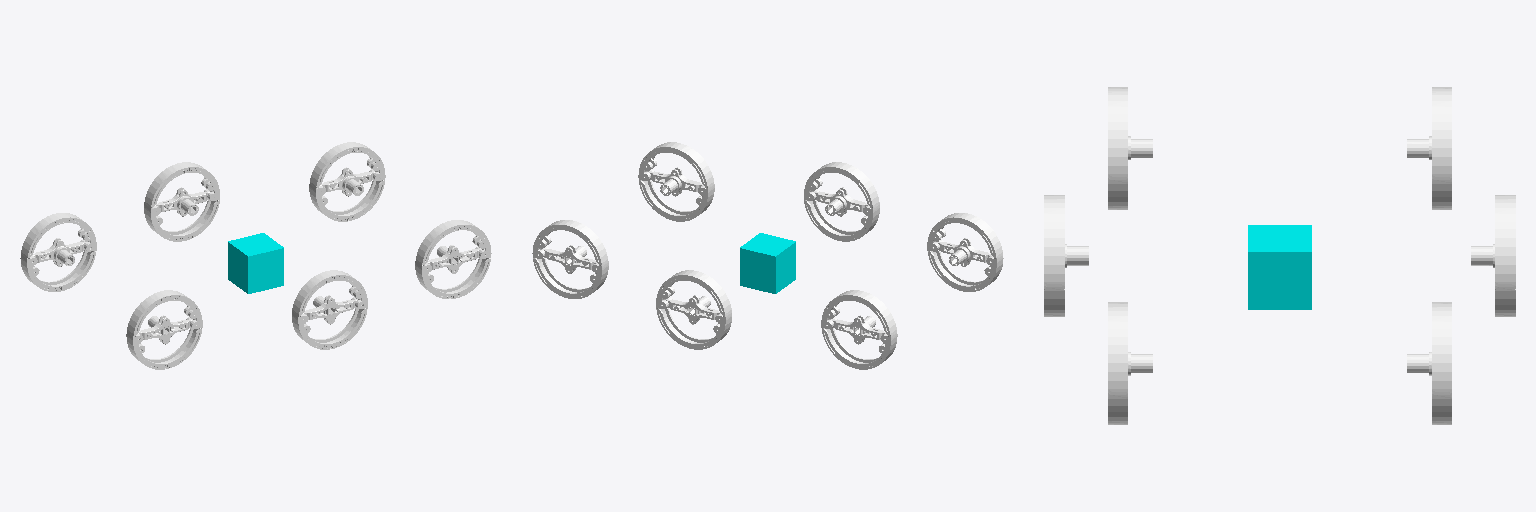
--- Render facts (derived) ---
Views: 3 orthographic renders of the robot side by side, from view 1: azimuth 30°, elevation 25°; view 2: azimuth 150°, elevation 25°; view 3: azimuth 270°, elevation 25°.
Model WheelLeg with 19 links and 18 joints (18 continuous), rooted at base_link, posed all joints at 0.
Visible links, largest first — view 1: base_link, RMRB, RBRB, LMRB, LBRB, LFRB, RFRB, LFRA, LMRA, RMRA, RBRA, RFRA (+7 smaller); view 2: base_link, LBRB, LMRB, RFRB, RMRB, RBRB, LFRB, RMRA, RFRA, LMRA, LBRA, LFRA (+7 smaller); view 3: base_link, LMRB, RMRB, LFRB, LBRB, RFRB, RBRB, LMRA, RMRA, LFRA, LBRA, RFRA (+1 smaller).
Link boxes in pixels (box(x1,y1,x2,y2)): base_link: box(228, 233, 283, 293); RMRB: box(292, 270, 367, 317); RBRB: box(127, 290, 202, 337); LMRB: box(144, 162, 219, 209); LBRB: box(21, 213, 96, 260); LFRB: box(310, 142, 385, 189); RFRB: box(416, 220, 491, 267); LFRA: box(309, 180, 384, 221); LMRA: box(144, 200, 219, 241); RMRA: box(292, 308, 367, 349); RBRA: box(126, 328, 201, 369); RFRA: box(415, 257, 490, 298); base_link: box(740, 233, 795, 293); LBRB: box(821, 290, 896, 337); LMRB: box(656, 270, 731, 317); RFRB: box(638, 142, 713, 189); RMRB: box(804, 162, 879, 209); RBRB: box(927, 213, 1002, 260); LFRB: box(532, 220, 607, 267); RMRA: box(804, 200, 879, 241); RFRA: box(639, 180, 714, 221); LMRA: box(656, 308, 731, 349); LBRA: box(822, 328, 897, 369); LFRA: box(533, 257, 608, 298); base_link: box(1248, 225, 1311, 309); LMRB: box(1495, 195, 1515, 288); RMRB: box(1044, 195, 1064, 288); LFRB: box(1432, 302, 1451, 396); LBRB: box(1432, 87, 1451, 181); RFRB: box(1108, 302, 1127, 396); RBRB: box(1108, 87, 1127, 181); LMRA: box(1495, 284, 1515, 316); RMRA: box(1044, 284, 1064, 316); LFRA: box(1432, 392, 1451, 424); LBRA: box(1432, 177, 1451, 209); RFRA: box(1108, 392, 1127, 424).
Bounding box of the posed robot: 0.993 × 0.7405 × 0.193 m (x, y, z).
18 mesh visuals loaded from 6 distinct referenced files (6 binary STL).

The robot description file, URDF, robot "WheelLeg":
<?xml version="1.0" encoding="utf-8"?>
<!-- =================================================================================== -->
<!-- |    This document was autogenerated by xacro from WheelLeg.xacro                 | -->
<!-- |    EDITING THIS FILE BY HAND IS NOT RECOMMENDED                                 | -->
<!-- =================================================================================== -->
<robot name="WheelLeg">
  <link name="base_link">
    <inertial>
      <origin rpy="0 0 0" xyz="0.05 0.05 0.05"/>
      <mass value="1"/>
      <inertia ixx="0.00167" ixy="0" ixz="0" iyy="0.00167" iyz="0" izz="0.00167"/>
    </inertial>
    <visual>
      <origin rpy="0 0 0" xyz="0 0 0"/>
      <geometry>
        <box size="0.1 0.1 0.1"/>
      </geometry>
      <material name="Cyan">
        <color rgba="0 1.0 1.0 1.0"/>
      </material>
    </visual>
    <collision>
      <origin rpy="0 0 0" xyz="0 0 0"/>
      <geometry>
        <box size="0.1 0.1 0.1"/>
      </geometry>
    </collision>
  </link>
  <link name="LF">
    <inertial>
      <origin rpy="0 0 0" xyz="4.8179E-09 1.5313E-06 0.045042"/>
      <mass value="0.075119"/>
      <inertia ixx="0.00010565" ixy="-1.0649E-07" ixz="-2.3479E-12" iyy="2.7546E-05" iyz="-8.9308E-10" izz="9.6655E-05"/>
    </inertial>
    <visual>
      <origin rpy="0 0 0" xyz="0 0 0"/>
      <geometry>
        <mesh filename="package://wheelleg_description/meshes/Left.STL"/>
      </geometry>
      <material name="">
        <color rgba="1 1 1 1"/>
      </material>
    </visual>
    <collision>
      <origin rpy="0 0 0" xyz="0 0 0"/>
      <geometry>
        <mesh filename="package://wheelleg_description/meshes/Left.STL"/>
      </geometry>
    </collision>
  </link>
  <joint name="LF_Joint" type="continuous">
    <origin rpy="1.5708 -1.5708 3.1416" xyz="0.4 0.2 0.02"/>
    <parent link="base_link"/>
    <child link="LF"/>
    <axis xyz="0 0 1"/>
    <limit effort="2.8" velocity="30"/>
  </joint>
  <link name="LFRA">
    <inertial>
      <origin rpy="0 0 0" xyz="0.060620953877514 -0.0509052185223456 -0.0160797180106055"/>
      <mass value="0.102065831041357"/>
      <inertia ixx="0.000107618762660542" ixy="6.4058045299092E-05" ixz="1.40721471251035E-07" iyy="0.000426511611787524" iyz="-2.25569567809916E-07" izz="0.000513500369211842"/>
    </inertial>
    <visual>
      <origin rpy="0 0 0" xyz="0 0 0"/>
      <geometry>
        <mesh filename="package://wheelleg_description/meshes/LeftRimA.STL"/>
      </geometry>
      <material name="">
        <color rgba="1 1 1 1"/>
      </material>
    </visual>
    <collision>
      <origin rpy="0 0 0" xyz="0 0 0"/>
      <geometry>
        <mesh filename="package://wheelleg_description/meshes/LeftRimA.STL"/>
      </geometry>
    </collision>
  </link>
  <joint name="LFRA_Joint" type="continuous">
    <origin rpy="3.1416 0 1.5708" xyz="0 -0.08 0.038242"/>
    <parent link="LF"/>
    <child link="LFRA"/>
    <axis xyz="0 0 1"/>
    <dynamics damping="0.2" friction="0.0"/>
    <limit effort="2.8" velocity="30"/>
  </joint>
  <link name="LFRB">
    <inertial>
      <origin rpy="0 0 0" xyz="0.060620953877514 -0.0509052185223458 -0.0160797180106054"/>
      <mass value="0.102065831041357"/>
      <inertia ixx="0.000107618762660542" ixy="6.4058045299092E-05" ixz="1.40721471251074E-07" iyy="0.000426511611787524" iyz="-2.2556956780994E-07" izz="0.000513500369211842"/>
    </inertial>
    <visual>
      <origin rpy="0 0 0" xyz="0 0 0"/>
      <geometry>
        <mesh filename="package://wheelleg_description/meshes/LeftRimB.STL"/>
      </geometry>
      <material name="">
        <color rgba="1 1 1 1"/>
      </material>
    </visual>
    <collision>
      <origin rpy="0 0 0" xyz="0 0 0"/>
      <geometry>
        <mesh filename="package://wheelleg_description/meshes/LeftRimB.STL"/>
      </geometry>
    </collision>
  </link>
  <joint name="LFRB_Joint" type="continuous">
    <origin rpy="3.1416 0 -1.5708" xyz="0 0.08 0.038242"/>
    <parent link="LF"/>
    <child link="LFRB"/>
    <axis xyz="0 0 1"/>
    <dynamics damping="0.2" friction="0.0"/>
    <limit effort="2.8" velocity="30"/>
  </joint>
  <link name="LM">
    <inertial>
      <origin rpy="0 0 0" xyz="4.8179E-09 1.5313E-06 0.045042"/>
      <mass value="0.075119"/>
      <inertia ixx="0.00010565" ixy="-1.0649E-07" ixz="-2.3479E-12" iyy="2.7546E-05" iyz="-8.9308E-10" izz="9.6655E-05"/>
    </inertial>
    <visual>
      <origin rpy="0 0 0" xyz="0 0 0"/>
      <geometry>
        <mesh filename="package://wheelleg_description/meshes/Left.STL"/>
      </geometry>
      <material name="">
        <color rgba="1 1 1 1"/>
      </material>
    </visual>
    <collision>
      <origin rpy="0 0 0" xyz="0 0 0"/>
      <geometry>
        <mesh filename="package://wheelleg_description/meshes/Left.STL"/>
      </geometry>
    </collision>
  </link>
  <joint name="LM_Joint" type="continuous">
    <origin rpy="1.5708 -1.5708 3.1416" xyz="0 0.3 0.02"/>
    <parent link="base_link"/>
    <child link="LM"/>
    <axis xyz="0 0 1"/>
    <limit effort="2.8" velocity="30"/>
  </joint>
  <link name="LMRA">
    <inertial>
      <origin rpy="0 0 0" xyz="0.060620953877514 -0.0509052185223456 -0.0160797180106055"/>
      <mass value="0.102065831041357"/>
      <inertia ixx="0.000107618762660542" ixy="6.4058045299092E-05" ixz="1.40721471251035E-07" iyy="0.000426511611787524" iyz="-2.25569567809916E-07" izz="0.000513500369211842"/>
    </inertial>
    <visual>
      <origin rpy="0 0 0" xyz="0 0 0"/>
      <geometry>
        <mesh filename="package://wheelleg_description/meshes/LeftRimA.STL"/>
      </geometry>
      <material name="">
        <color rgba="1 1 1 1"/>
      </material>
    </visual>
    <collision>
      <origin rpy="0 0 0" xyz="0 0 0"/>
      <geometry>
        <mesh filename="package://wheelleg_description/meshes/LeftRimA.STL"/>
      </geometry>
    </collision>
  </link>
  <joint name="LMRA_Joint" type="continuous">
    <origin rpy="3.1416 0 1.5708" xyz="0 -0.08 0.038242"/>
    <parent link="LM"/>
    <child link="LMRA"/>
    <axis xyz="0 0 1"/>
    <dynamics damping="0.2" friction="0.0"/>
    <limit effort="2.8" velocity="30"/>
  </joint>
  <link name="LMRB">
    <inertial>
      <origin rpy="0 0 0" xyz="0.060620953877514 -0.0509052185223458 -0.0160797180106054"/>
      <mass value="0.102065831041357"/>
      <inertia ixx="0.000107618762660542" ixy="6.4058045299092E-05" ixz="1.40721471251074E-07" iyy="0.000426511611787524" iyz="-2.2556956780994E-07" izz="0.000513500369211842"/>
    </inertial>
    <visual>
      <origin rpy="0 0 0" xyz="0 0 0"/>
      <geometry>
        <mesh filename="package://wheelleg_description/meshes/LeftRimB.STL"/>
      </geometry>
      <material name="">
        <color rgba="1 1 1 1"/>
      </material>
    </visual>
    <collision>
      <origin rpy="0 0 0" xyz="0 0 0"/>
      <geometry>
        <mesh filename="package://wheelleg_description/meshes/LeftRimB.STL"/>
      </geometry>
    </collision>
  </link>
  <joint name="LMRB_Joint" type="continuous">
    <origin rpy="3.1416 0 -1.5708" xyz="0 0.08 0.038242"/>
    <parent link="LM"/>
    <child link="LMRB"/>
    <axis xyz="0 0 1"/>
    <dynamics damping="0.2" friction="0.0"/>
    <limit effort="2.8" velocity="30"/>
  </joint>
  <link name="LB">
    <inertial>
      <origin rpy="0 0 0" xyz="4.8179E-09 1.5313E-06 0.045042"/>
      <mass value="0.075119"/>
      <inertia ixx="0.00010565" ixy="-1.0649E-07" ixz="-2.3479E-12" iyy="2.7546E-05" iyz="-8.9308E-10" izz="9.6655E-05"/>
    </inertial>
    <visual>
      <origin rpy="0 0 0" xyz="0 0 0"/>
      <geometry>
        <mesh filename="package://wheelleg_description/meshes/Left.STL"/>
      </geometry>
      <material name="">
        <color rgba="1 1 1 1"/>
      </material>
    </visual>
    <collision>
      <origin rpy="0 0 0" xyz="0 0 0"/>
      <geometry>
        <mesh filename="package://wheelleg_description/meshes/Left.STL"/>
      </geometry>
    </collision>
  </link>
  <joint name="LB_Joint" type="continuous">
    <origin rpy="1.5708 -1.5708 3.1416" xyz="-0.4 0.2 0.02"/>
    <parent link="base_link"/>
    <child link="LB"/>
    <axis xyz="0 0 1"/>
    <limit effort="2.8" velocity="30"/>
  </joint>
  <link name="LBRA">
    <inertial>
      <origin rpy="0 0 0" xyz="0.060620953877514 -0.0509052185223456 -0.0160797180106055"/>
      <mass value="0.102065831041357"/>
      <inertia ixx="0.000107618762660542" ixy="6.4058045299092E-05" ixz="1.40721471251035E-07" iyy="0.000426511611787524" iyz="-2.25569567809916E-07" izz="0.000513500369211842"/>
    </inertial>
    <visual>
      <origin rpy="0 0 0" xyz="0 0 0"/>
      <geometry>
        <mesh filename="package://wheelleg_description/meshes/LeftRimA.STL"/>
      </geometry>
      <material name="">
        <color rgba="1 1 1 1"/>
      </material>
    </visual>
    <collision>
      <origin rpy="0 0 0" xyz="0 0 0"/>
      <geometry>
        <mesh filename="package://wheelleg_description/meshes/LeftRimA.STL"/>
      </geometry>
    </collision>
  </link>
  <joint name="LBRA_Joint" type="continuous">
    <origin rpy="3.1416 0 1.5708" xyz="0 -0.08 0.038242"/>
    <parent link="LB"/>
    <child link="LBRA"/>
    <axis xyz="0 0 1"/>
    <dynamics damping="0.2" friction="0.0"/>
    <limit effort="2.8" velocity="30"/>
  </joint>
  <link name="LBRB">
    <inertial>
      <origin rpy="0 0 0" xyz="0.060620953877514 -0.0509052185223458 -0.0160797180106054"/>
      <mass value="0.102065831041357"/>
      <inertia ixx="0.000107618762660542" ixy="6.4058045299092E-05" ixz="1.40721471251074E-07" iyy="0.000426511611787524" iyz="-2.2556956780994E-07" izz="0.000513500369211842"/>
    </inertial>
    <visual>
      <origin rpy="0 0 0" xyz="0 0 0"/>
      <geometry>
        <mesh filename="package://wheelleg_description/meshes/LeftRimB.STL"/>
      </geometry>
      <material name="">
        <color rgba="1 1 1 1"/>
      </material>
    </visual>
    <collision>
      <origin rpy="0 0 0" xyz="0 0 0"/>
      <geometry>
        <mesh filename="package://wheelleg_description/meshes/LeftRimB.STL"/>
      </geometry>
    </collision>
  </link>
  <joint name="LBRB_Joint" type="continuous">
    <origin rpy="3.1416 0 -1.5708" xyz="0 0.08 0.038242"/>
    <parent link="LB"/>
    <child link="LBRB"/>
    <axis xyz="0 0 1"/>
    <dynamics damping="0.2" friction="0.0"/>
    <limit effort="2.8" velocity="30"/>
  </joint>
  <link name="RF">
    <inertial>
      <origin rpy="0 0 0" xyz="4.8179E-09 1.5313E-06 0.045042"/>
      <mass value="0.075119"/>
      <inertia ixx="0.00010565" ixy="-1.0649E-07" ixz="-2.3479E-12" iyy="2.7546E-05" iyz="-8.9308E-10" izz="9.6655E-05"/>
    </inertial>
    <visual>
      <origin rpy="0 0 0" xyz="0 0 0"/>
      <geometry>
        <mesh filename="package://wheelleg_description/meshes/Right.STL"/>
      </geometry>
      <material name="">
        <color rgba="1 1 1 1"/>
      </material>
    </visual>
    <collision>
      <origin rpy="0 0 0" xyz="0 0 0"/>
      <geometry>
        <mesh filename="package://wheelleg_description/meshes/Right.STL"/>
      </geometry>
    </collision>
  </link>
  <joint name="RF_Joint" type="continuous">
    <origin rpy="1.5708 1.5708 0.0" xyz="0.4 -0.2 0.02"/>
    <parent link="base_link"/>
    <child link="RF"/>
    <axis xyz="0 0 1"/>
    <limit effort="2.8" velocity="30"/>
  </joint>
  <link name="RFRA">
    <inertial>
      <origin rpy="0 0 0" xyz="0.0606209538775138 -0.0509052185223455 0.0159343419031902"/>
      <mass value="0.102065831041357"/>
      <inertia ixx="0.000107618762660542" ixy="6.40580452990925E-05" ixz="1.40721471251091E-07" iyy="0.000426511611787524" iyz="-2.25569567809853E-07" izz="0.000513500369211842"/>
    </inertial>
    <visual>
      <origin rpy="0 0 0" xyz="0 0 0"/>
      <geometry>
        <mesh filename="package://wheelleg_description/meshes/RightRimA.STL"/>
      </geometry>
      <material name="">
        <color rgba="1 1 1 1"/>
      </material>
    </visual>
    <collision>
      <origin rpy="0 0 0" xyz="0 0 0"/>
      <geometry>
        <mesh filename="package://wheelleg_description/meshes/RightRimA.STL"/>
      </geometry>
    </collision>
  </link>
  <joint name="RFRA_Joint" type="continuous">
    <origin rpy="0 0 1.5708" xyz="0 -0.08 0.038244"/>
    <parent link="RF"/>
    <child link="RFRA"/>
    <axis xyz="0 0 1"/>
    <dynamics damping="0.2" friction="0.0"/>
    <limit effort="2.8" velocity="30"/>
  </joint>
  <link name="RFRB">
    <inertial>
      <origin rpy="0 0 0" xyz="0.060620953877514 -0.050905218522346 0.0159343419031902"/>
      <mass value="0.102065831041357"/>
      <inertia ixx="0.000107618762660542" ixy="6.40580452990932E-05" ixz="1.40721471251035E-07" iyy="0.000426511611787523" iyz="-2.25569567810021E-07" izz="0.00051350036921184"/>
    </inertial>
    <visual>
      <origin rpy="0 0 0" xyz="0 0 0"/>
      <geometry>
        <mesh filename="package://wheelleg_description/meshes/RightRimB.STL"/>
      </geometry>
      <material name="">
        <color rgba="1 1 1 1"/>
      </material>
    </visual>
    <collision>
      <origin rpy="0 0 0" xyz="0 0 0"/>
      <geometry>
        <mesh filename="package://wheelleg_description/meshes/RightRimB.STL"/>
      </geometry>
    </collision>
  </link>
  <joint name="RFRB_Joint" type="continuous">
    <origin rpy="0 0 -1.5708" xyz="0 0.08 0.038244"/>
    <parent link="RF"/>
    <child link="RFRB"/>
    <axis xyz="0 0 1"/>
    <dynamics damping="0.2" friction="0.0"/>
    <limit effort="2.8" velocity="30"/>
  </joint>
  <link name="RM">
    <inertial>
      <origin rpy="0 0 0" xyz="4.8179E-09 1.5313E-06 0.045042"/>
      <mass value="0.075119"/>
      <inertia ixx="0.00010565" ixy="-1.0649E-07" ixz="-2.3479E-12" iyy="2.7546E-05" iyz="-8.9308E-10" izz="9.6655E-05"/>
    </inertial>
    <visual>
      <origin rpy="0 0 0" xyz="0 0 0"/>
      <geometry>
        <mesh filename="package://wheelleg_description/meshes/Right.STL"/>
      </geometry>
      <material name="">
        <color rgba="1 1 1 1"/>
      </material>
    </visual>
    <collision>
      <origin rpy="0 0 0" xyz="0 0 0"/>
      <geometry>
        <mesh filename="package://wheelleg_description/meshes/Right.STL"/>
      </geometry>
    </collision>
  </link>
  <joint name="RM_Joint" type="continuous">
    <origin rpy="1.5708 1.5708 0.0" xyz="0 -0.3 0.02"/>
    <parent link="base_link"/>
    <child link="RM"/>
    <axis xyz="0 0 1"/>
    <limit effort="2.8" velocity="30"/>
  </joint>
  <link name="RMRA">
    <inertial>
      <origin rpy="0 0 0" xyz="0.0606209538775138 -0.0509052185223455 0.0159343419031902"/>
      <mass value="0.102065831041357"/>
      <inertia ixx="0.000107618762660542" ixy="6.40580452990925E-05" ixz="1.40721471251091E-07" iyy="0.000426511611787524" iyz="-2.25569567809853E-07" izz="0.000513500369211842"/>
    </inertial>
    <visual>
      <origin rpy="0 0 0" xyz="0 0 0"/>
      <geometry>
        <mesh filename="package://wheelleg_description/meshes/RightRimA.STL"/>
      </geometry>
      <material name="">
        <color rgba="1 1 1 1"/>
      </material>
    </visual>
    <collision>
      <origin rpy="0 0 0" xyz="0 0 0"/>
      <geometry>
        <mesh filename="package://wheelleg_description/meshes/RightRimA.STL"/>
      </geometry>
    </collision>
  </link>
  <joint name="RMRA_Joint" type="continuous">
    <origin rpy="0 0 1.5708" xyz="0 -0.08 0.038244"/>
    <parent link="RM"/>
    <child link="RMRA"/>
    <axis xyz="0 0 1"/>
    <dynamics damping="0.2" friction="0.0"/>
    <limit effort="2.8" velocity="30"/>
  </joint>
  <link name="RMRB">
    <inertial>
      <origin rpy="0 0 0" xyz="0.060620953877514 -0.050905218522346 0.0159343419031902"/>
      <mass value="0.102065831041357"/>
      <inertia ixx="0.000107618762660542" ixy="6.40580452990932E-05" ixz="1.40721471251035E-07" iyy="0.000426511611787523" iyz="-2.25569567810021E-07" izz="0.00051350036921184"/>
    </inertial>
    <visual>
      <origin rpy="0 0 0" xyz="0 0 0"/>
      <geometry>
        <mesh filename="package://wheelleg_description/meshes/RightRimB.STL"/>
      </geometry>
      <material name="">
        <color rgba="1 1 1 1"/>
      </material>
    </visual>
    <collision>
      <origin rpy="0 0 0" xyz="0 0 0"/>
      <geometry>
        <mesh filename="package://wheelleg_description/meshes/RightRimB.STL"/>
      </geometry>
    </collision>
  </link>
  <joint name="RMRB_Joint" type="continuous">
    <origin rpy="0 0 -1.5708" xyz="0 0.08 0.038244"/>
    <parent link="RM"/>
    <child link="RMRB"/>
    <axis xyz="0 0 1"/>
    <dynamics damping="0.2" friction="0.0"/>
    <limit effort="2.8" velocity="30"/>
  </joint>
  <link name="RB">
    <inertial>
      <origin rpy="0 0 0" xyz="4.8179E-09 1.5313E-06 0.045042"/>
      <mass value="0.075119"/>
      <inertia ixx="0.00010565" ixy="-1.0649E-07" ixz="-2.3479E-12" iyy="2.7546E-05" iyz="-8.9308E-10" izz="9.6655E-05"/>
    </inertial>
    <visual>
      <origin rpy="0 0 0" xyz="0 0 0"/>
      <geometry>
        <mesh filename="package://wheelleg_description/meshes/Right.STL"/>
      </geometry>
      <material name="">
        <color rgba="1 1 1 1"/>
      </material>
    </visual>
    <collision>
      <origin rpy="0 0 0" xyz="0 0 0"/>
      <geometry>
        <mesh filename="package://wheelleg_description/meshes/Right.STL"/>
      </geometry>
    </collision>
  </link>
  <joint name="RB_Joint" type="continuous">
    <origin rpy="1.5708 1.5708 0.0" xyz="-0.4 -0.2 0.02"/>
    <parent link="base_link"/>
    <child link="RB"/>
    <axis xyz="0 0 1"/>
    <limit effort="2.8" velocity="30"/>
  </joint>
  <link name="RBRA">
    <inertial>
      <origin rpy="0 0 0" xyz="0.0606209538775138 -0.0509052185223455 0.0159343419031902"/>
      <mass value="0.102065831041357"/>
      <inertia ixx="0.000107618762660542" ixy="6.40580452990925E-05" ixz="1.40721471251091E-07" iyy="0.000426511611787524" iyz="-2.25569567809853E-07" izz="0.000513500369211842"/>
    </inertial>
    <visual>
      <origin rpy="0 0 0" xyz="0 0 0"/>
      <geometry>
        <mesh filename="package://wheelleg_description/meshes/RightRimA.STL"/>
      </geometry>
      <material name="">
        <color rgba="1 1 1 1"/>
      </material>
    </visual>
    <collision>
      <origin rpy="0 0 0" xyz="0 0 0"/>
      <geometry>
        <mesh filename="package://wheelleg_description/meshes/RightRimA.STL"/>
      </geometry>
    </collision>
  </link>
  <joint name="RBRA_Joint" type="continuous">
    <origin rpy="0 0 1.5708" xyz="0 -0.08 0.038244"/>
    <parent link="RB"/>
    <child link="RBRA"/>
    <axis xyz="0 0 1"/>
    <dynamics damping="0.2" friction="0.0"/>
    <limit effort="2.8" velocity="30"/>
  </joint>
  <link name="RBRB">
    <inertial>
      <origin rpy="0 0 0" xyz="0.060620953877514 -0.050905218522346 0.0159343419031902"/>
      <mass value="0.102065831041357"/>
      <inertia ixx="0.000107618762660542" ixy="6.40580452990932E-05" ixz="1.40721471251035E-07" iyy="0.000426511611787523" iyz="-2.25569567810021E-07" izz="0.00051350036921184"/>
    </inertial>
    <visual>
      <origin rpy="0 0 0" xyz="0 0 0"/>
      <geometry>
        <mesh filename="package://wheelleg_description/meshes/RightRimB.STL"/>
      </geometry>
      <material name="">
        <color rgba="1 1 1 1"/>
      </material>
    </visual>
    <collision>
      <origin rpy="0 0 0" xyz="0 0 0"/>
      <geometry>
        <mesh filename="package://wheelleg_description/meshes/RightRimB.STL"/>
      </geometry>
    </collision>
  </link>
  <joint name="RBRB_Joint" type="continuous">
    <origin rpy="0 0 -1.5708" xyz="0 0.08 0.038244"/>
    <parent link="RB"/>
    <child link="RBRB"/>
    <axis xyz="0 0 1"/>
    <dynamics damping="0.2" friction="0.0"/>
    <limit effort="2.8" velocity="30"/>
  </joint>
  <!--load control interface for robot-->
  <gazebo>
    <plugin filename="libgazebo_ros_control.so" name="gazebo_ros_control">
      <robotNamespace>/WheelLeg</robotNamespace>
    </plugin>
  </gazebo>
  <transmission name="tran_LF">
    <type>transmission_interface/SimpleTransmission</type>
    <joint name="LF_Joint">
      <hardwareInterface>hardware_interface/EffortJointInterface</hardwareInterface>
    </joint>
    <actuator name="motor_LF">
      <hardwareInterface>hardware_interface/EffortJointInterface</hardwareInterface>
      <mechanicalReduction>1</mechanicalReduction>
    </actuator>
  </transmission>
  <gazebo reference="LF">
    <material>Gazebo/White</material>
  </gazebo>
  <transmission name="tran_LFRA">
    <type>transmission_interface/SimpleTransmission</type>
    <joint name="LFRA_Joint">
      <hardwareInterface>hardware_interface/EffortJointInterface</hardwareInterface>
    </joint>
    <actuator name="motor_LFRA">
      <hardwareInterface>hardware_interface/EffortJointInterface</hardwareInterface>
      <mechanicalReduction>1</mechanicalReduction>
    </actuator>
  </transmission>
  <gazebo reference="LFRA">
    <material>Gazebo/Black</material>
  </gazebo>
  <transmission name="tran_LFRB">
    <type>transmission_interface/SimpleTransmission</type>
    <joint name="LFRB_Joint">
      <hardwareInterface>hardware_interface/EffortJointInterface</hardwareInterface>
    </joint>
    <actuator name="motor_LFRB">
      <hardwareInterface>hardware_interface/EffortJointInterface</hardwareInterface>
      <mechanicalReduction>1</mechanicalReduction>
    </actuator>
  </transmission>
  <gazebo reference="LFRB">
    <material>Gazebo/Black</material>
  </gazebo>
  <transmission name="tran_LM">
    <type>transmission_interface/SimpleTransmission</type>
    <joint name="LM_Joint">
      <hardwareInterface>hardware_interface/EffortJointInterface</hardwareInterface>
    </joint>
    <actuator name="motor_LM">
      <hardwareInterface>hardware_interface/EffortJointInterface</hardwareInterface>
      <mechanicalReduction>1</mechanicalReduction>
    </actuator>
  </transmission>
  <gazebo reference="LM">
    <material>Gazebo/White</material>
  </gazebo>
  <transmission name="tran_LMRA">
    <type>transmission_interface/SimpleTransmission</type>
    <joint name="LMRA_Joint">
      <hardwareInterface>hardware_interface/EffortJointInterface</hardwareInterface>
    </joint>
    <actuator name="motor_LMRA">
      <hardwareInterface>hardware_interface/EffortJointInterface</hardwareInterface>
      <mechanicalReduction>1</mechanicalReduction>
    </actuator>
  </transmission>
  <gazebo reference="LMRA">
    <material>Gazebo/Black</material>
  </gazebo>
  <transmission name="tran_LMRB">
    <type>transmission_interface/SimpleTransmission</type>
    <joint name="LMRB_Joint">
      <hardwareInterface>hardware_interface/EffortJointInterface</hardwareInterface>
    </joint>
    <actuator name="motor_LMRB">
      <hardwareInterface>hardware_interface/EffortJointInterface</hardwareInterface>
      <mechanicalReduction>1</mechanicalReduction>
    </actuator>
  </transmission>
  <gazebo reference="LMRB">
    <material>Gazebo/Black</material>
  </gazebo>
  <transmission name="tran_LB">
    <type>transmission_interface/SimpleTransmission</type>
    <joint name="LB_Joint">
      <hardwareInterface>hardware_interface/EffortJointInterface</hardwareInterface>
    </joint>
    <actuator name="motor_LB">
      <hardwareInterface>hardware_interface/EffortJointInterface</hardwareInterface>
      <mechanicalReduction>1</mechanicalReduction>
    </actuator>
  </transmission>
  <gazebo reference="LB">
    <material>Gazebo/White</material>
  </gazebo>
  <transmission name="tran_LBRA">
    <type>transmission_interface/SimpleTransmission</type>
    <joint name="LBRA_Joint">
      <hardwareInterface>hardware_interface/EffortJointInterface</hardwareInterface>
    </joint>
    <actuator name="motor_LBRA">
      <hardwareInterface>hardware_interface/EffortJointInterface</hardwareInterface>
      <mechanicalReduction>1</mechanicalReduction>
    </actuator>
  </transmission>
  <gazebo reference="LBRA">
    <material>Gazebo/Black</material>
  </gazebo>
  <transmission name="tran_LBRB">
    <type>transmission_interface/SimpleTransmission</type>
    <joint name="LBRB_Joint">
      <hardwareInterface>hardware_interface/EffortJointInterface</hardwareInterface>
    </joint>
    <actuator name="motor_LBRB">
      <hardwareInterface>hardware_interface/EffortJointInterface</hardwareInterface>
      <mechanicalReduction>1</mechanicalReduction>
    </actuator>
  </transmission>
  <gazebo reference="LBRB">
    <material>Gazebo/Black</material>
  </gazebo>
  <transmission name="tran_RF">
    <type>transmission_interface/SimpleTransmission</type>
    <joint name="RF_Joint">
      <hardwareInterface>hardware_interface/EffortJointInterface</hardwareInterface>
    </joint>
    <actuator name="motor_RF">
      <hardwareInterface>hardware_interface/EffortJointInterface</hardwareInterface>
      <mechanicalReduction>1</mechanicalReduction>
    </actuator>
  </transmission>
  <gazebo reference="RF">
    <material>Gazebo/White</material>
  </gazebo>
  <transmission name="tran_RFRA">
    <type>transmission_interface/SimpleTransmission</type>
    <joint name="RFRA_Joint">
      <hardwareInterface>hardware_interface/EffortJointInterface</hardwareInterface>
    </joint>
    <actuator name="motor_RFRA">
      <hardwareInterface>hardware_interface/EffortJointInterface</hardwareInterface>
      <mechanicalReduction>1</mechanicalReduction>
    </actuator>
  </transmission>
  <gazebo reference="RFRA">
    <material>Gazebo/Black</material>
  </gazebo>
  <transmission name="tran_RFRB">
    <type>transmission_interface/SimpleTransmission</type>
    <joint name="RFRB_Joint">
      <hardwareInterface>hardware_interface/EffortJointInterface</hardwareInterface>
    </joint>
    <actuator name="motor_RFRB">
      <hardwareInterface>hardware_interface/EffortJointInterface</hardwareInterface>
      <mechanicalReduction>1</mechanicalReduction>
    </actuator>
  </transmission>
  <gazebo reference="RFRB">
    <material>Gazebo/Black</material>
  </gazebo>
  <transmission name="tran_RM">
    <type>transmission_interface/SimpleTransmission</type>
    <joint name="RM_Joint">
      <hardwareInterface>hardware_interface/EffortJointInterface</hardwareInterface>
    </joint>
    <actuator name="motor_RM">
      <hardwareInterface>hardware_interface/EffortJointInterface</hardwareInterface>
      <mechanicalReduction>1</mechanicalReduction>
    </actuator>
  </transmission>
  <gazebo reference="RM">
    <material>Gazebo/White</material>
  </gazebo>
  <transmission name="tran_RMRA">
    <type>transmission_interface/SimpleTransmission</type>
    <joint name="RMRA_Joint">
      <hardwareInterface>hardware_interface/EffortJointInterface</hardwareInterface>
    </joint>
    <actuator name="motor_RMRA">
      <hardwareInterface>hardware_interface/EffortJointInterface</hardwareInterface>
      <mechanicalReduction>1</mechanicalReduction>
    </actuator>
  </transmission>
  <gazebo reference="RMRA">
    <material>Gazebo/Black</material>
  </gazebo>
  <transmission name="tran_RMRB">
    <type>transmission_interface/SimpleTransmission</type>
    <joint name="RMRB_Joint">
      <hardwareInterface>hardware_interface/EffortJointInterface</hardwareInterface>
    </joint>
    <actuator name="motor_RMRB">
      <hardwareInterface>hardware_interface/EffortJointInterface</hardwareInterface>
      <mechanicalReduction>1</mechanicalReduction>
    </actuator>
  </transmission>
  <gazebo reference="RMRB">
    <material>Gazebo/Black</material>
  </gazebo>
  <transmission name="tran_RB">
    <type>transmission_interface/SimpleTransmission</type>
    <joint name="RB_Joint">
      <hardwareInterface>hardware_interface/EffortJointInterface</hardwareInterface>
    </joint>
    <actuator name="motor_RB">
      <hardwareInterface>hardware_interface/EffortJointInterface</hardwareInterface>
      <mechanicalReduction>1</mechanicalReduction>
    </actuator>
  </transmission>
  <gazebo reference="RB">
    <material>Gazebo/White</material>
  </gazebo>
  <transmission name="tran_RBRA">
    <type>transmission_interface/SimpleTransmission</type>
    <joint name="RBRA_Joint">
      <hardwareInterface>hardware_interface/EffortJointInterface</hardwareInterface>
    </joint>
    <actuator name="motor_RBRA">
      <hardwareInterface>hardware_interface/EffortJointInterface</hardwareInterface>
      <mechanicalReduction>1</mechanicalReduction>
    </actuator>
  </transmission>
  <gazebo reference="RBRA">
    <material>Gazebo/Black</material>
  </gazebo>
  <transmission name="tran_RBRB">
    <type>transmission_interface/SimpleTransmission</type>
    <joint name="RBRB_Joint">
      <hardwareInterface>hardware_interface/EffortJointInterface</hardwareInterface>
    </joint>
    <actuator name="motor_RBRB">
      <hardwareInterface>hardware_interface/EffortJointInterface</hardwareInterface>
      <mechanicalReduction>1</mechanicalReduction>
    </actuator>
  </transmission>
  <gazebo reference="RBRB">
    <material>Gazebo/Black</material>
  </gazebo>
</robot>
